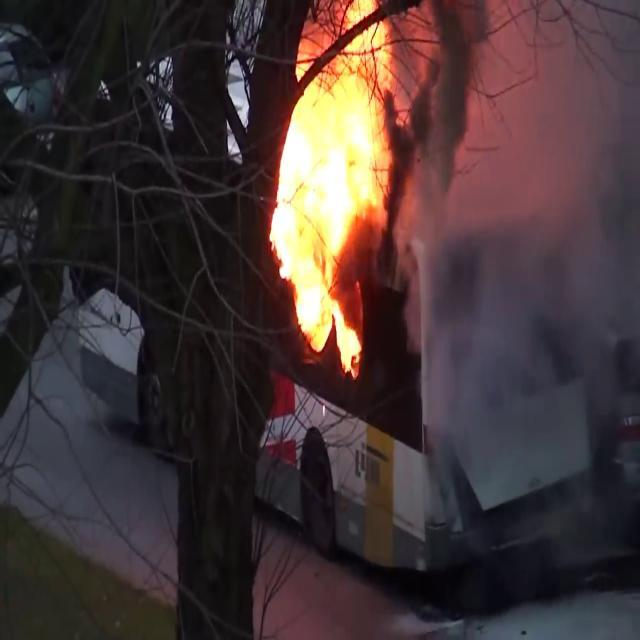Fire: (262, 0, 413, 368)
Smoke: (402, 0, 640, 495)
